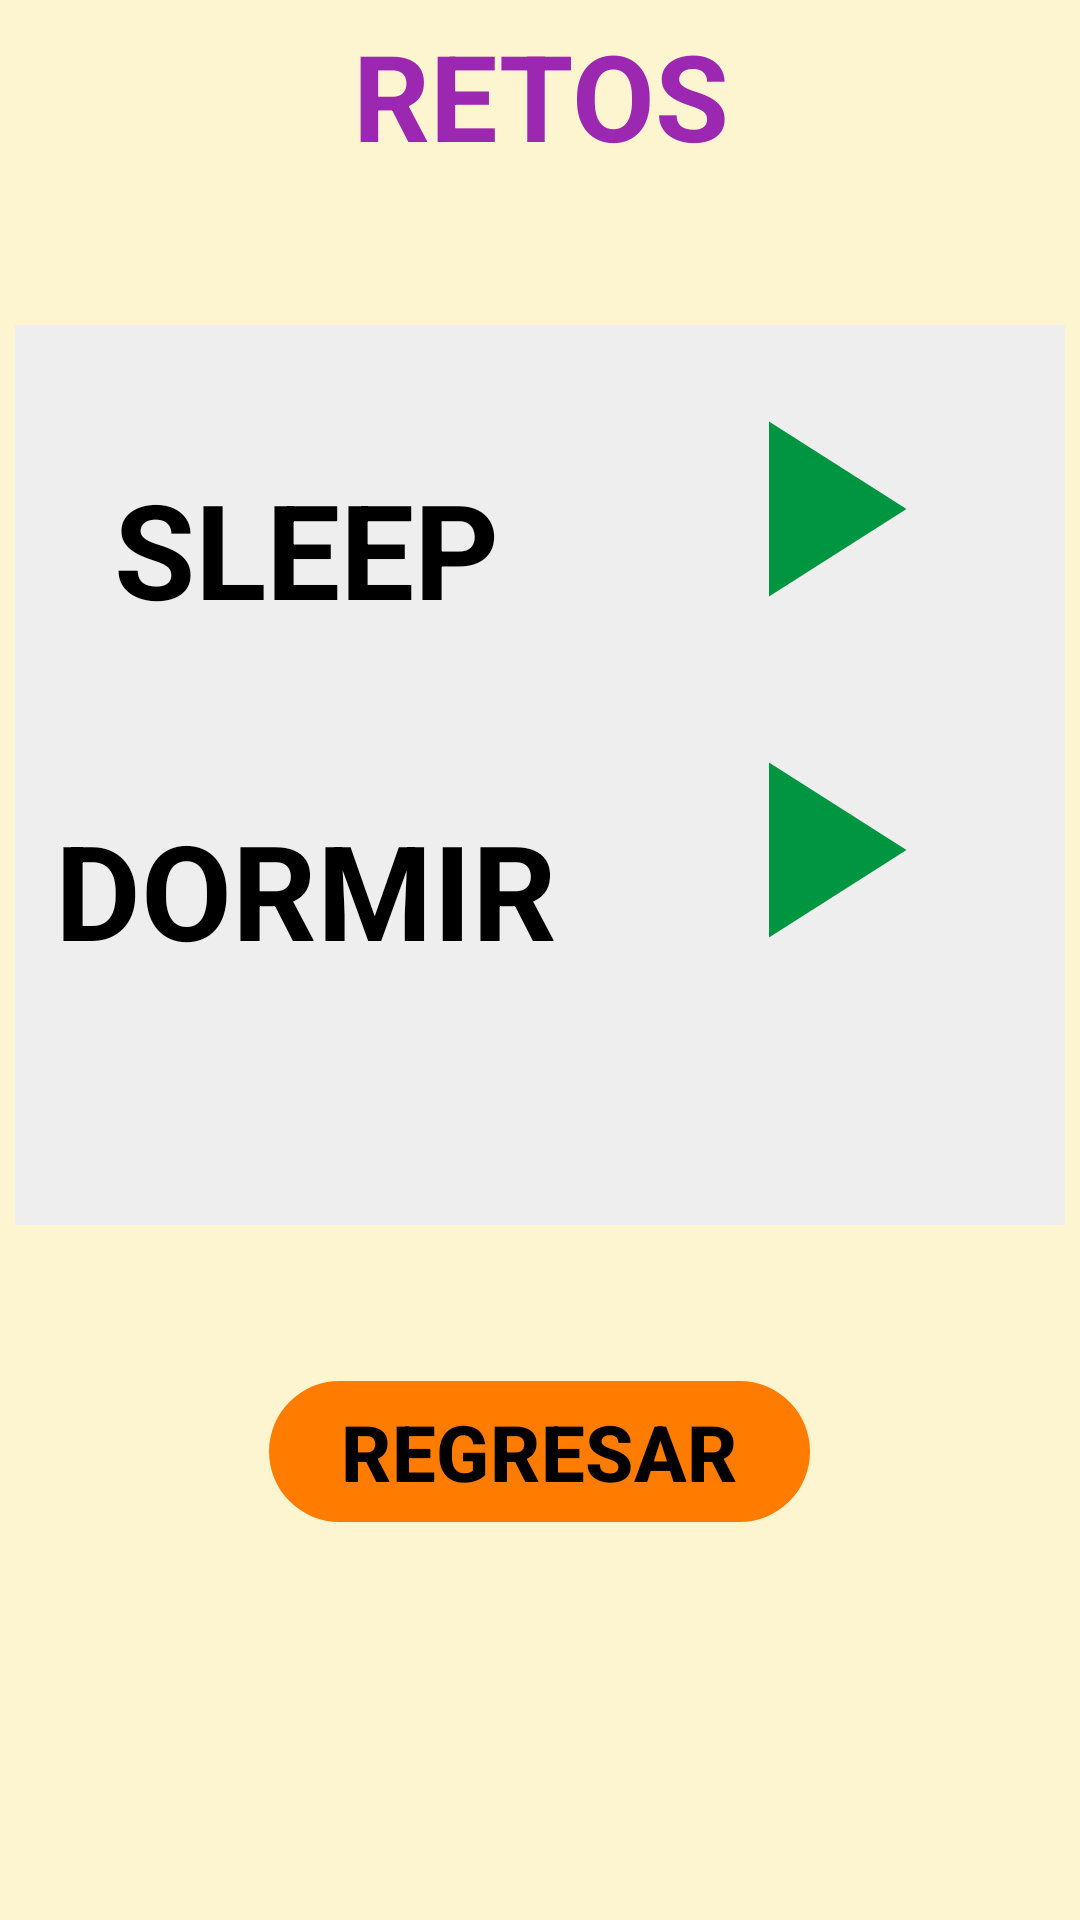

Named icons in this screenshot (1080px×1920px) and their centers, point (x, y):
play: point (837, 509), point (837, 850)
